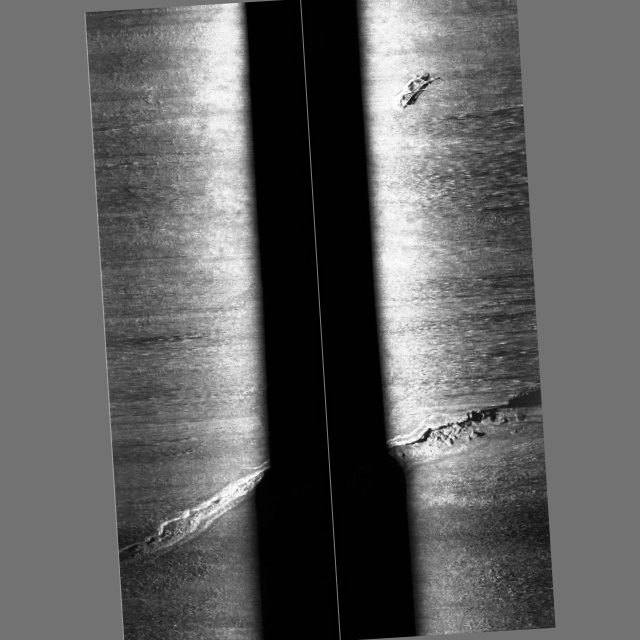Shipwreck: (392, 72, 439, 111)
